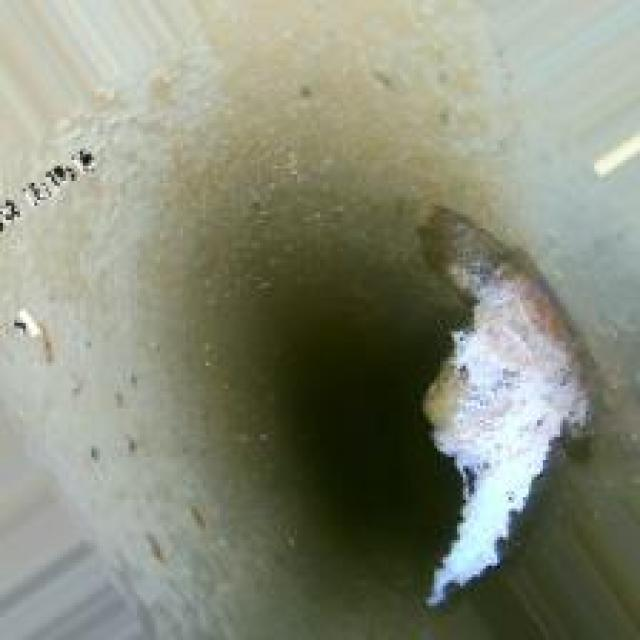ferrule: (411, 208, 600, 606)
